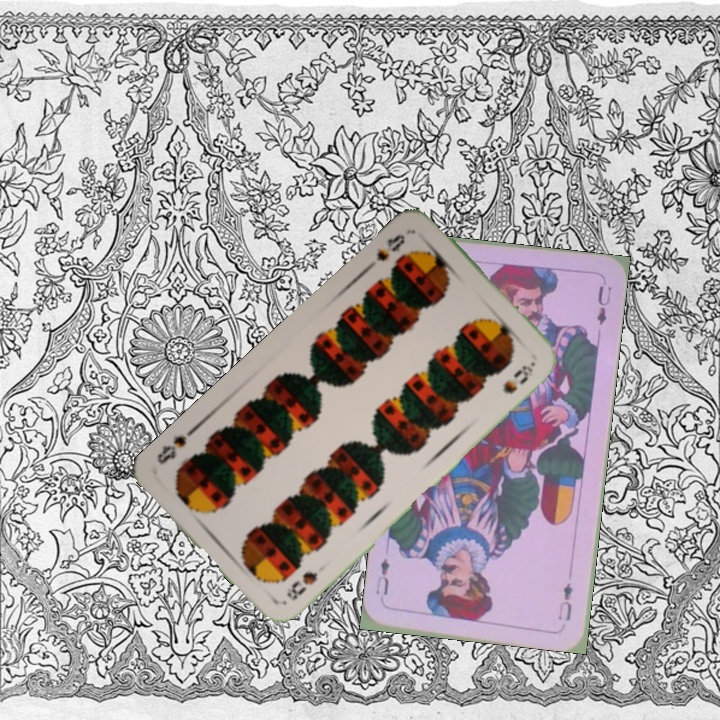EU: (554, 578, 576, 623)
S8: (282, 568, 321, 603), (372, 230, 408, 264)
